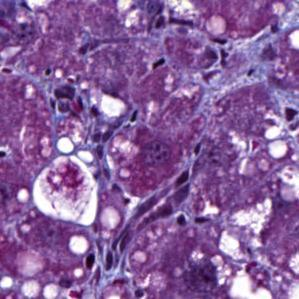ballooning: (30, 150, 102, 230)
